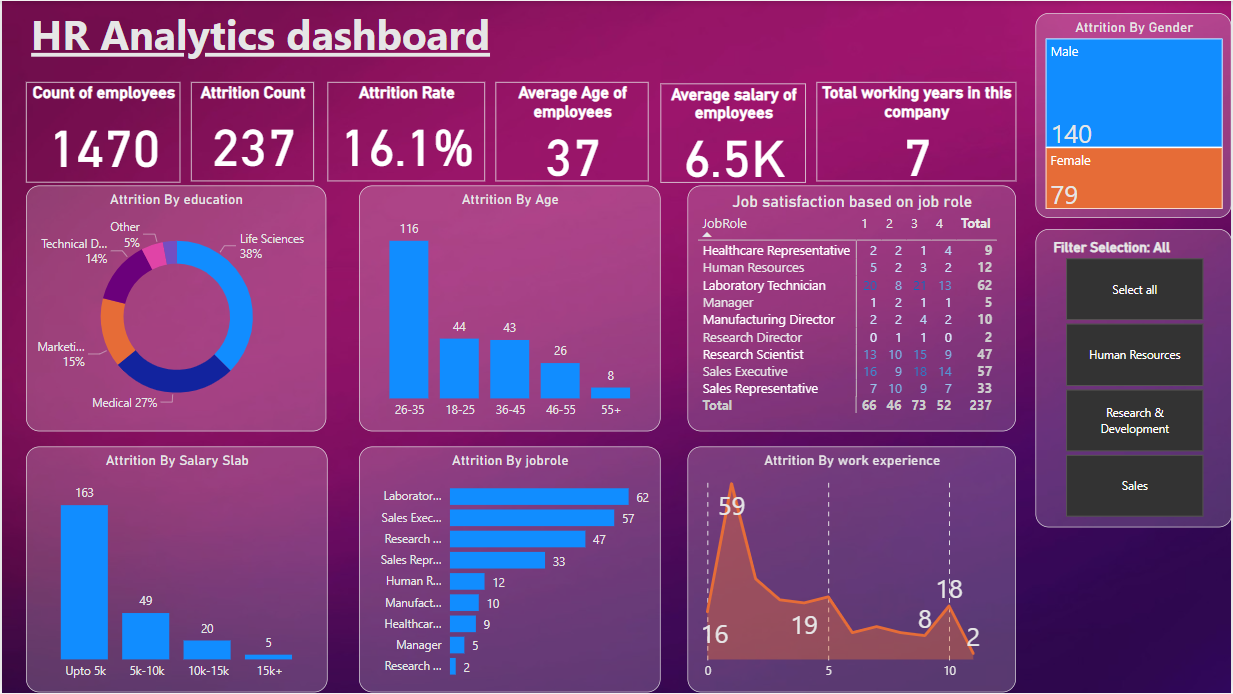

The page's visual inventory and layout, read from the dashboard file:
{"tool":"powerbi","page":{"name":"Page 1","canvas":[1280,720],"ordinal":0},"visuals":[{"type":"card","title":"Count of employees","fields":{"Values":["CountNonNull(HR_Analytics.EmpID)"]},"box":[25,83.9,160.9,104.6],"z":0},{"type":"card","title":"Attrition Count","fields":{"Values":["Sum(HR_Analytics.AttritionCount)"]},"box":[196.8,84.3,128.1,103.1],"z":1000},{"type":"card","title":"Attrition Rate","fields":{"Values":["HR_Analytics.AttritionRate"]},"box":[338.9,84.3,164,103.1],"z":2000},{"type":"card","title":"Average Age of employees","fields":{"Values":["Avg(HR_Analytics.Age)"]},"box":[513.8,83.9,159.3,103.1],"z":3000},{"type":"card","title":"Average salary of employees","fields":{"Values":["Avg(HR_Analytics.MonthlyIncome)"]},"box":[685.6,85.5,151.5,103.1],"z":4000},{"type":"card","title":"Total working years in this company","fields":{"Values":["Avg(HR_Analytics.YearsAtCompany)"]},"box":[848.1,83.9,207.7,103.1],"z":5000},{"type":"donutChart","title":"Attrition By education","fields":{"Category":["HR_Analytics.EducationField"],"Y":["Sum(HR_Analytics.AttritionCount)"]},"box":[25,192.1,312.4,256.1],"z":6000},{"type":"lineClusteredColumnComboChart","title":"Attrition By Age","fields":{"Y":["Sum(HR_Analytics.AttritionCount)"],"Category":["HR_Analytics.AgeGroup"]},"box":[371.7,192.1,313.9,256.1],"z":7000},{"type":"pivotTable","title":"Job satisfaction based on job role","fields":{"Rows":["HR_Analytics.JobRole"],"Columns":["HR_Analytics.JobSatisfaction"],"Values":["Sum(HR_Analytics.AttritionCount)"]},"box":[713.8,192.1,342,256.1],"z":8000},{"type":"lineClusteredColumnComboChart","title":"Attrition By Salary Slab","fields":{"Y":["Sum(HR_Analytics.AttritionCount)"],"Category":["HR_Analytics.SalarySlab"]},"box":[25,463.9,313.9,256.1],"z":9000},{"type":"clusteredBarChart","title":"Attrition By jobrole","fields":{"Category":["HR_Analytics.JobRole"],"Y":["Sum(HR_Analytics.AttritionCount)"]},"box":[371.7,463.9,313.9,256.1],"z":10000},{"type":"areaChart","title":"Attrition By work experience","fields":{"Category":["HR_Analytics.YearsAtCompany"],"Y":["Sum(HR_Analytics.AttritionCount)"]},"box":[713.8,463.9,342,256.1],"z":11000},{"type":"treemap","title":"Attrition By Gender","fields":{"Group":["HR_Analytics.Gender"],"Values":["Sum(HR_Analytics.AttritionCount)"]},"box":[1075.8,13.2,204.2,213.6],"z":12000},{"type":"slicer","fields":{"Values":["HR_Analytics.Department"]},"box":[1076.1,237.4,204.6,310.8],"z":13000},{"type":"textbox","box":[25,0,698.1,70.3],"z":14000}]}

Visuals, with their boxes in screenshot pixels (x1, y1, x2, y2), scaled from the page's 1280x720 canvas onto the 1233x694 screenshot:
"Count of employees" card: (24,81,179,182)
"Attrition Count" card: (190,81,313,181)
"Attrition Rate" card: (326,81,484,181)
"Average Age of employees" card: (495,81,648,180)
"Average salary of employees" card: (660,82,806,182)
"Total working years in this company" card: (817,81,1017,180)
"Attrition By education" donutChart: (24,185,325,432)
"Attrition By Age" lineClusteredColumnComboChart: (358,185,660,432)
"Job satisfaction based on job role" pivotTable: (688,185,1017,432)
"Attrition By Salary Slab" lineClusteredColumnComboChart: (24,447,326,693)
"Attrition By jobrole" clusteredBarChart: (358,447,660,693)
"Attrition By work experience" areaChart: (688,447,1017,693)
"Attrition By Gender" treemap: (1036,13,1232,219)
slicer - HR_Analytics.Department: (1037,229,1232,528)
textbox: (24,0,697,68)
